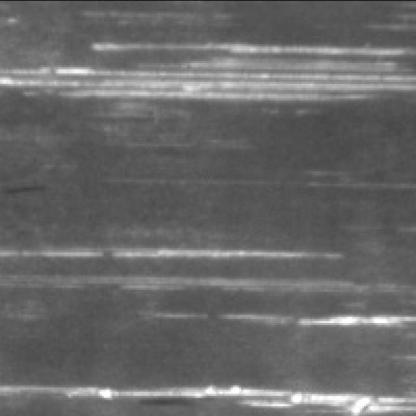scratches: (2, 40, 410, 108), (0, 383, 410, 416), (0, 240, 341, 271), (158, 310, 412, 337)
